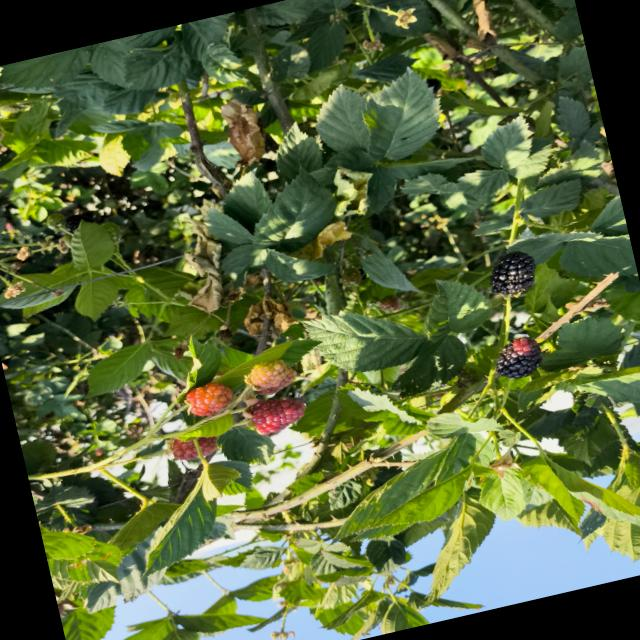maduro: (489, 251, 535, 294)
marron: (496, 337, 542, 378)
naranja: (250, 399, 305, 434), (245, 359, 295, 394), (185, 382, 233, 416), (167, 438, 198, 460), (198, 436, 218, 456)
